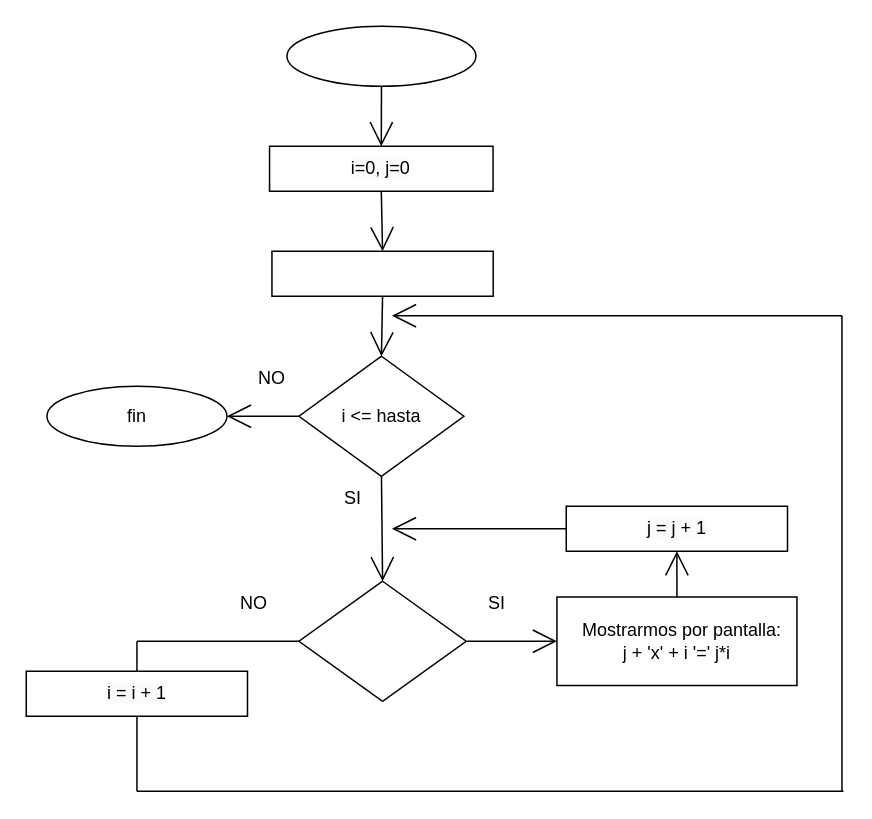
Image size: 872x819. Some labels were removed from this diagram. The box of each missing label's shape, as (x1, y1, x2, y2) in pixels:
hasta = 9: (270, 250, 493, 296)
inicio: (285, 25, 476, 86)
j <= hasta: (297, 580, 466, 701)
